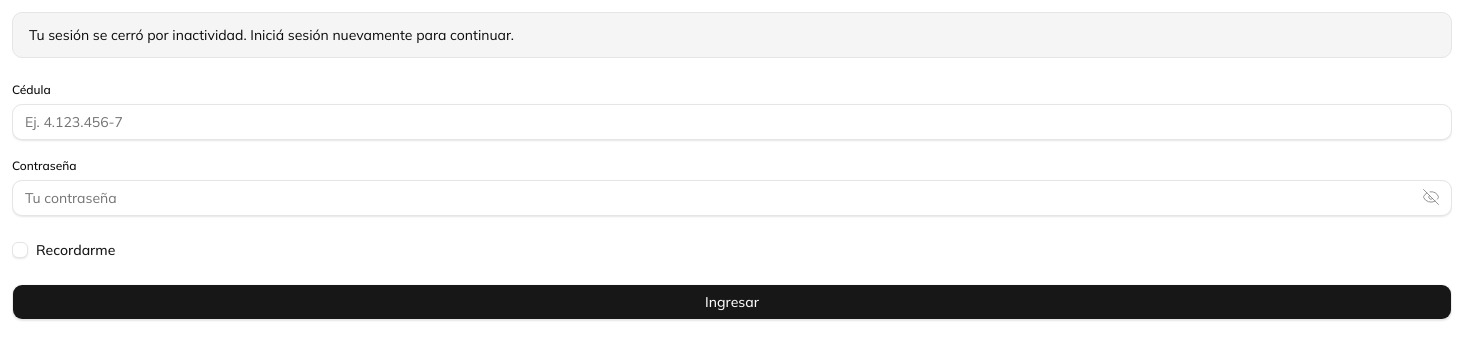
Test case: hides the session expiration message after a failed login
Type "77777777" into the field labelled "Cédula". click: (732, 122)
box: [12, 104, 1452, 140]
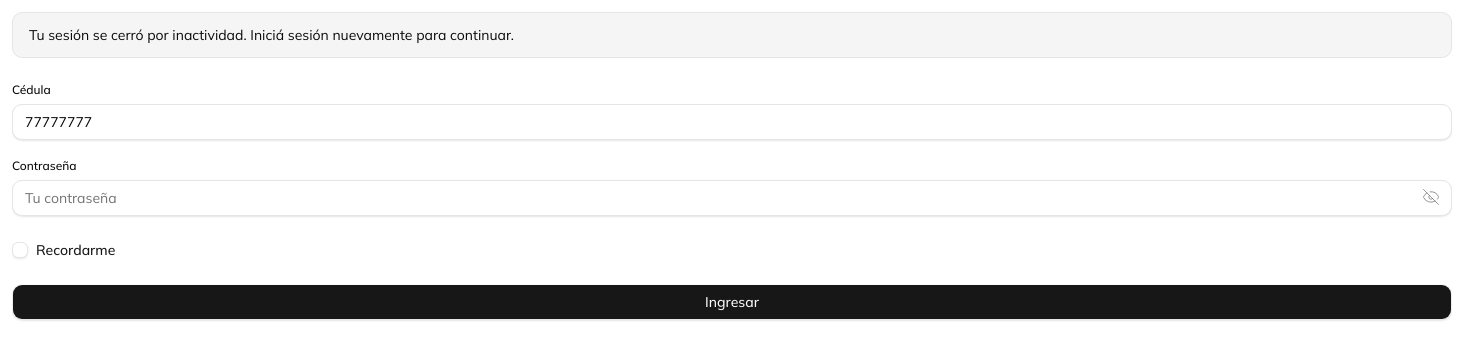
Type "password" into the password field labelled "Contraseña". click: (732, 198)
box: [12, 180, 1452, 216]
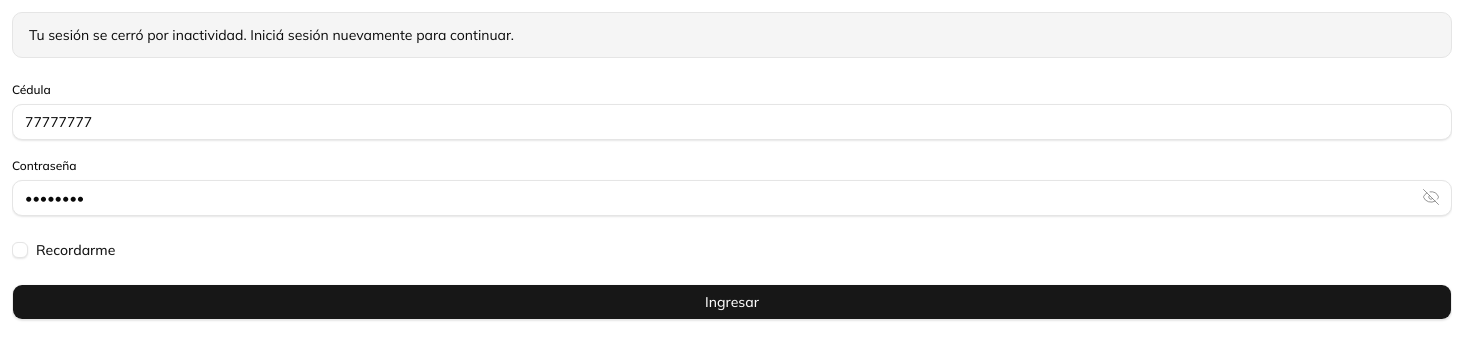
Submit the form named "Ingresar"
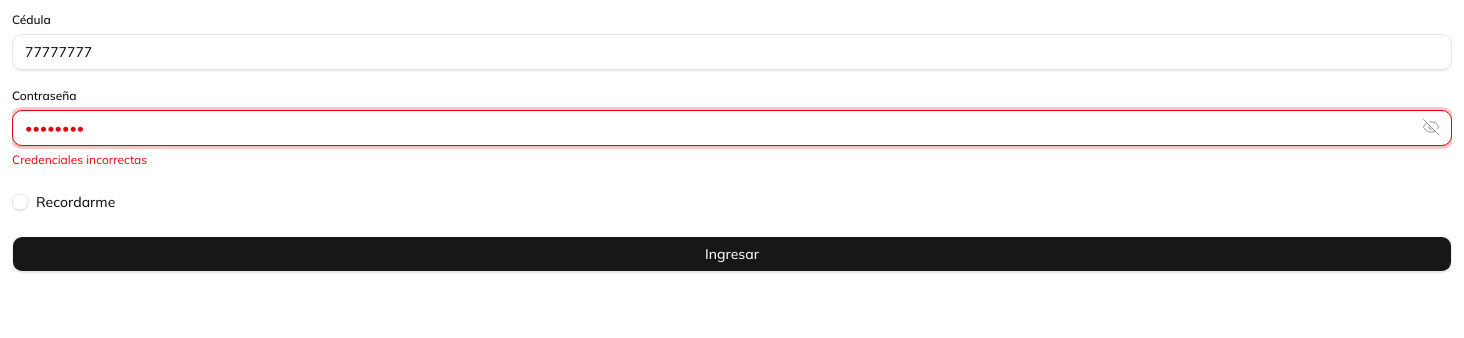
Check: the text "Credenciales incorrectas" is shown, box [12, 152, 147, 167]
